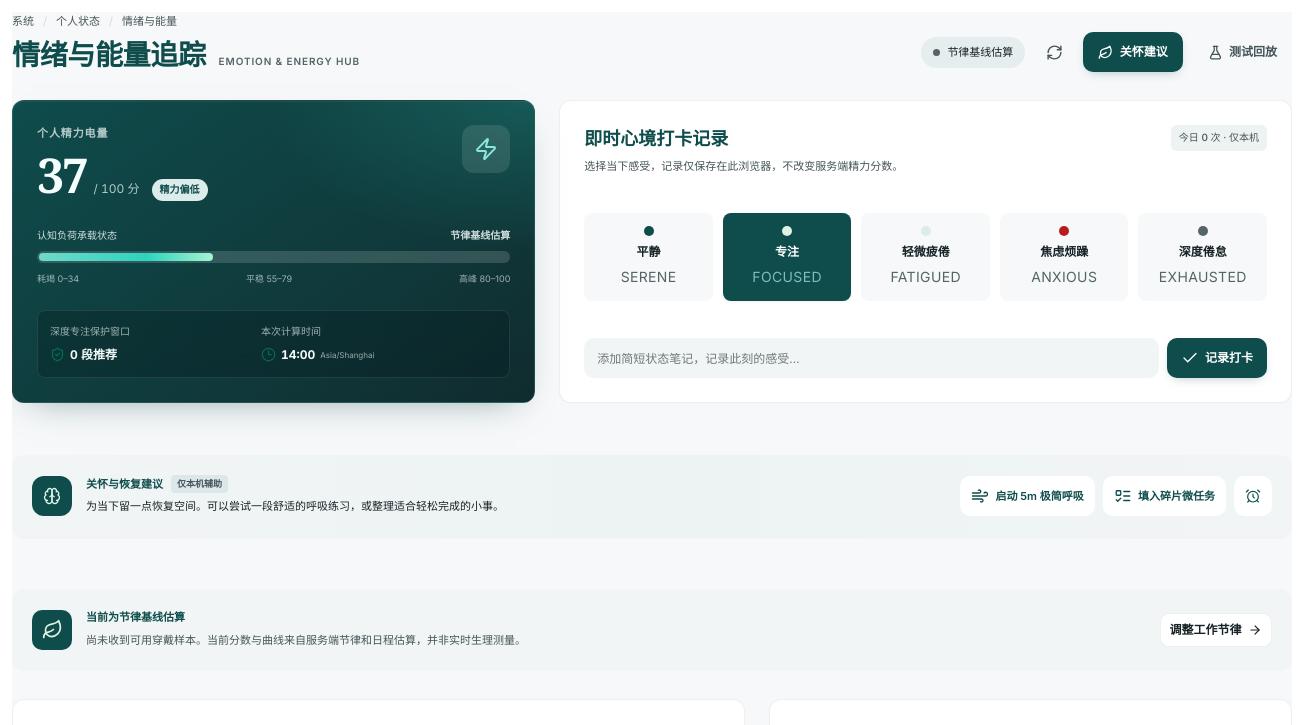
Test case: wearable energy insights › records local moods when randomUUID is unavailable on an HTTP deployment
Expected: the element named "个人精力电量" is shown, [37,251,510,263]
Click the button "记录打卡": (1217, 358) [1167,338,1267,378]
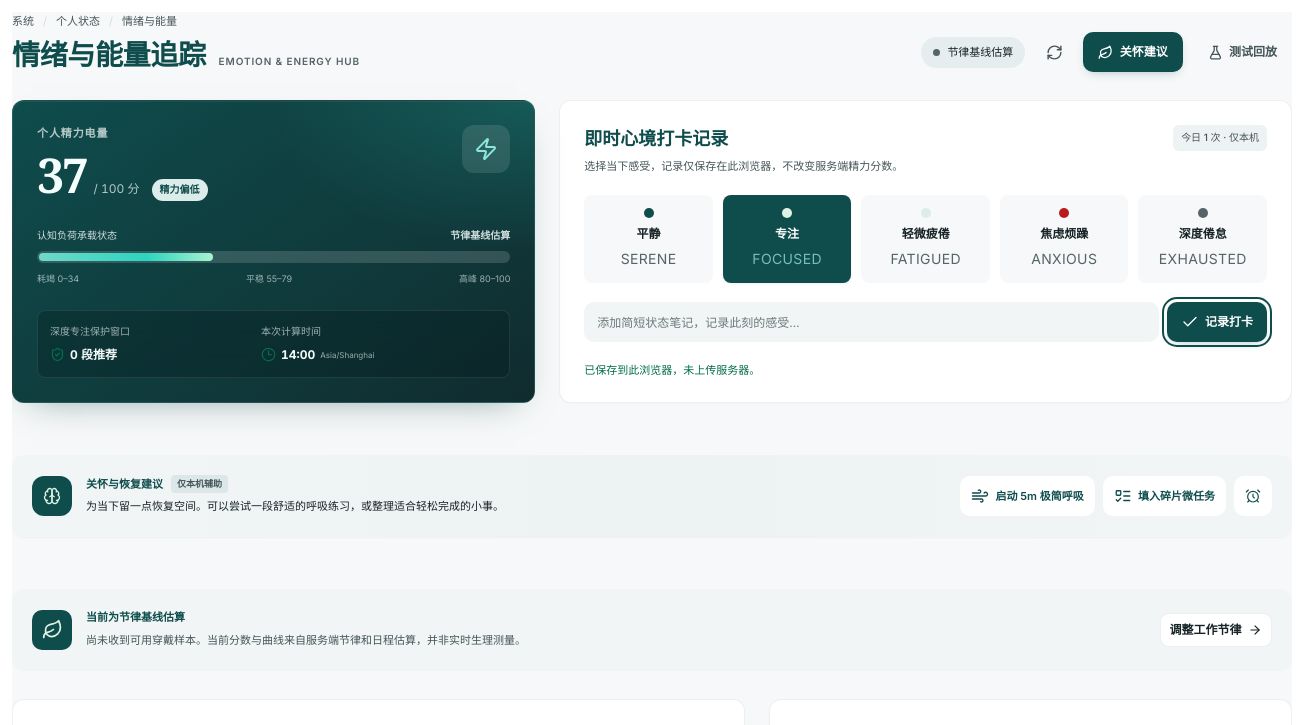
Result: the text "已保存到此浏览器，未上传服务器。" is shown at [584,363,760,377]
